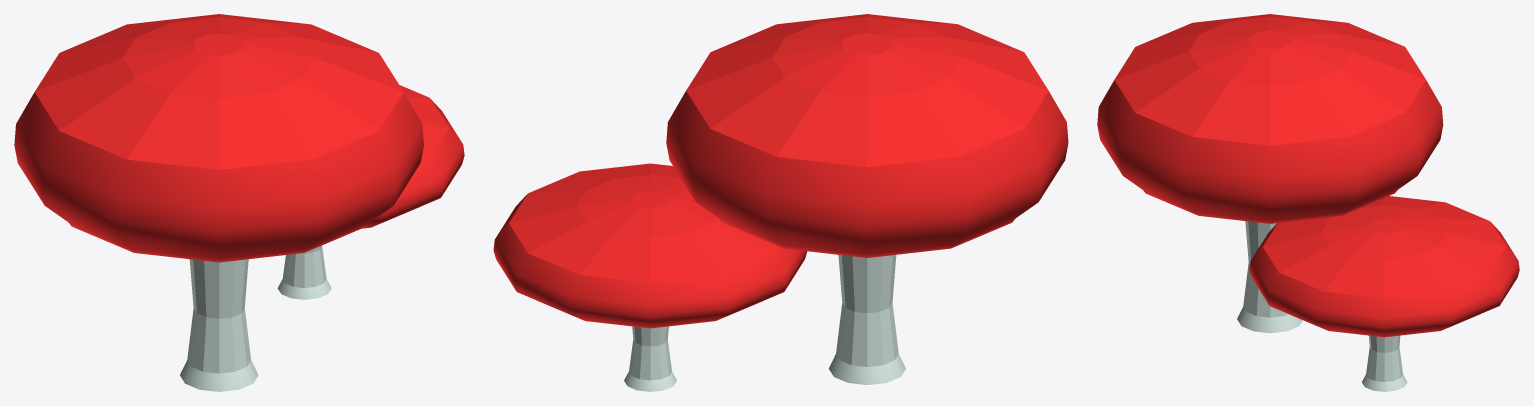
File: paddenstoelen.fbx
The picture shows the model from 3 angles, left to right: view 1: azimuth 30°, elevation 25°; view 2: azimuth 150°, elevation 25°; view 3: azimuth 270°, elevation 25°; orthographic projection. The views are drawn at different scales.
Parts seen in each view (by area): view 1: Cylinder019, Cylinder018, Cylinder021, Cylinder020; view 2: Cylinder019, Cylinder021, Cylinder018, Cylinder020; view 3: Cylinder019, Cylinder021, Cylinder018, Cylinder020.
Boxes of the visible parts, left/top/right/bottom form: Cylinder019: left=14, top=14, right=423, bottom=262; Cylinder018: left=180, top=259, right=258, bottom=391; Cylinder021: left=362, top=85, right=464, bottom=228; Cylinder020: left=277, top=245, right=331, bottom=299; Cylinder019: left=666, top=14, right=1068, bottom=257; Cylinder021: left=493, top=163, right=807, bottom=328; Cylinder018: left=829, top=255, right=905, bottom=384; Cylinder020: left=624, top=326, right=676, bottom=391; Cylinder019: left=1097, top=14, right=1443, bottom=223; Cylinder021: left=1249, top=196, right=1519, bottom=337; Cylinder018: left=1237, top=221, right=1302, bottom=333; Cylinder020: left=1362, top=335, right=1407, bottom=391.
Size of the model in its own units: 115 by 77.73 by 107.
